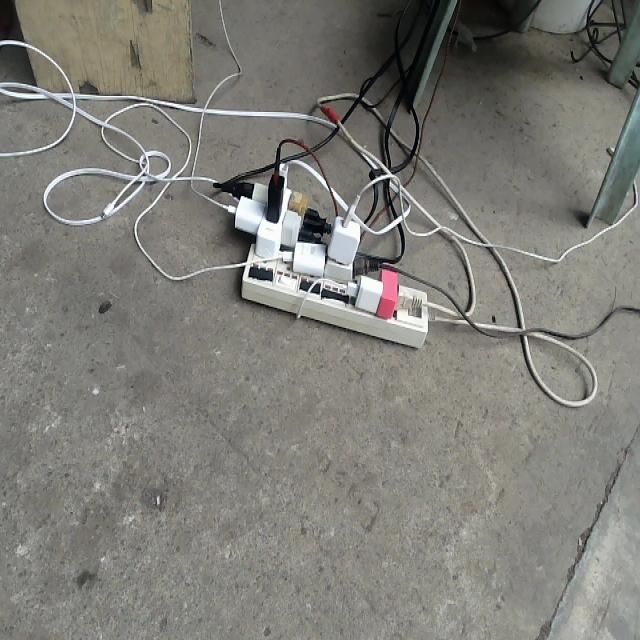-: (230, 158, 431, 350)
